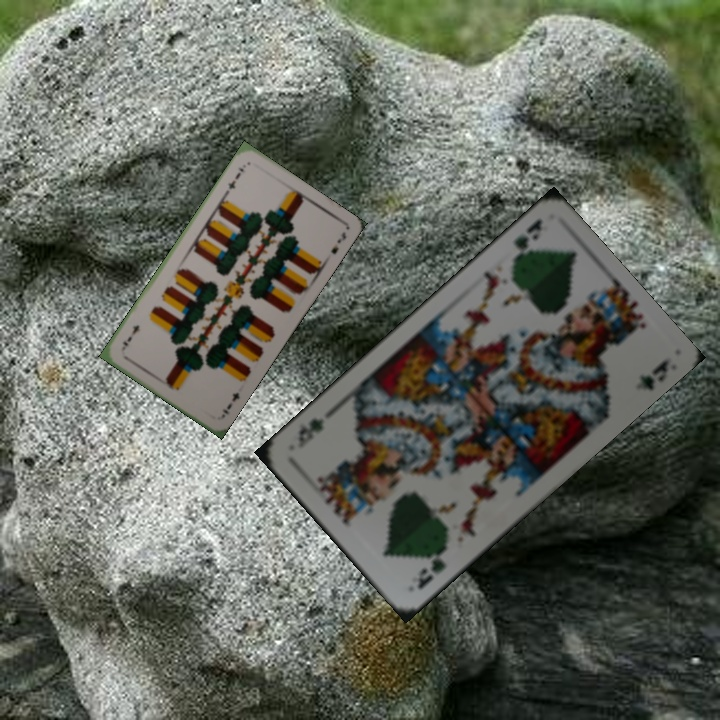E7: (222, 163, 247, 196), (218, 388, 242, 417)
GK: (508, 214, 545, 267), (413, 554, 449, 593)
